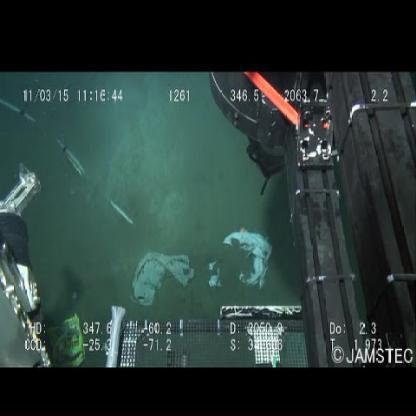Rác: (44, 314, 84, 368)
